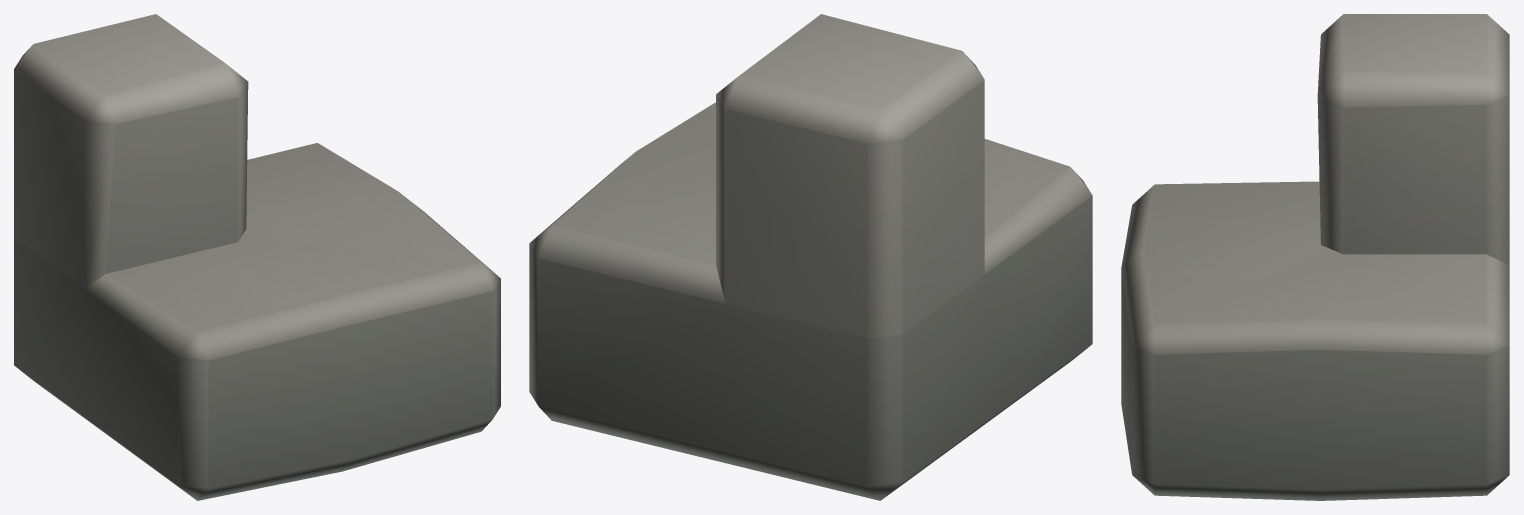
The model's file is stair_corner_conv_shade1.fbx.
The picture shows the model from 3 angles, left to right: view 1: azimuth 30°, elevation 25°; view 2: azimuth 150°, elevation 25°; view 3: azimuth 270°, elevation 25°; orthographic projection. The views are drawn at different scales.
Visible parts, largest first — view 1: stair_corner_conv_shade1; view 2: stair_corner_conv_shade1; view 3: stair_corner_conv_shade1.
Boxes of the visible parts, x1,y1,x2,y2 form: stair_corner_conv_shade1: (14,14,500,500); stair_corner_conv_shade1: (529,14,1092,500); stair_corner_conv_shade1: (1121,14,1509,500).
Size of the model in its own units: 50.88 by 50.69 by 51.43.
